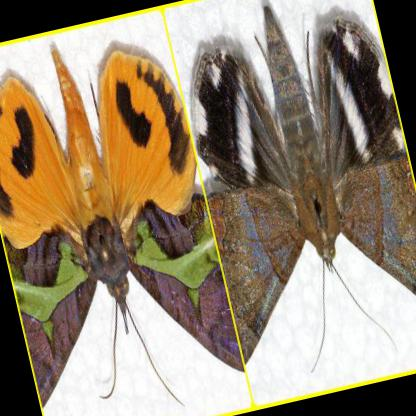fruit sucking moth: (0, 45, 242, 403), (191, 7, 416, 362)
